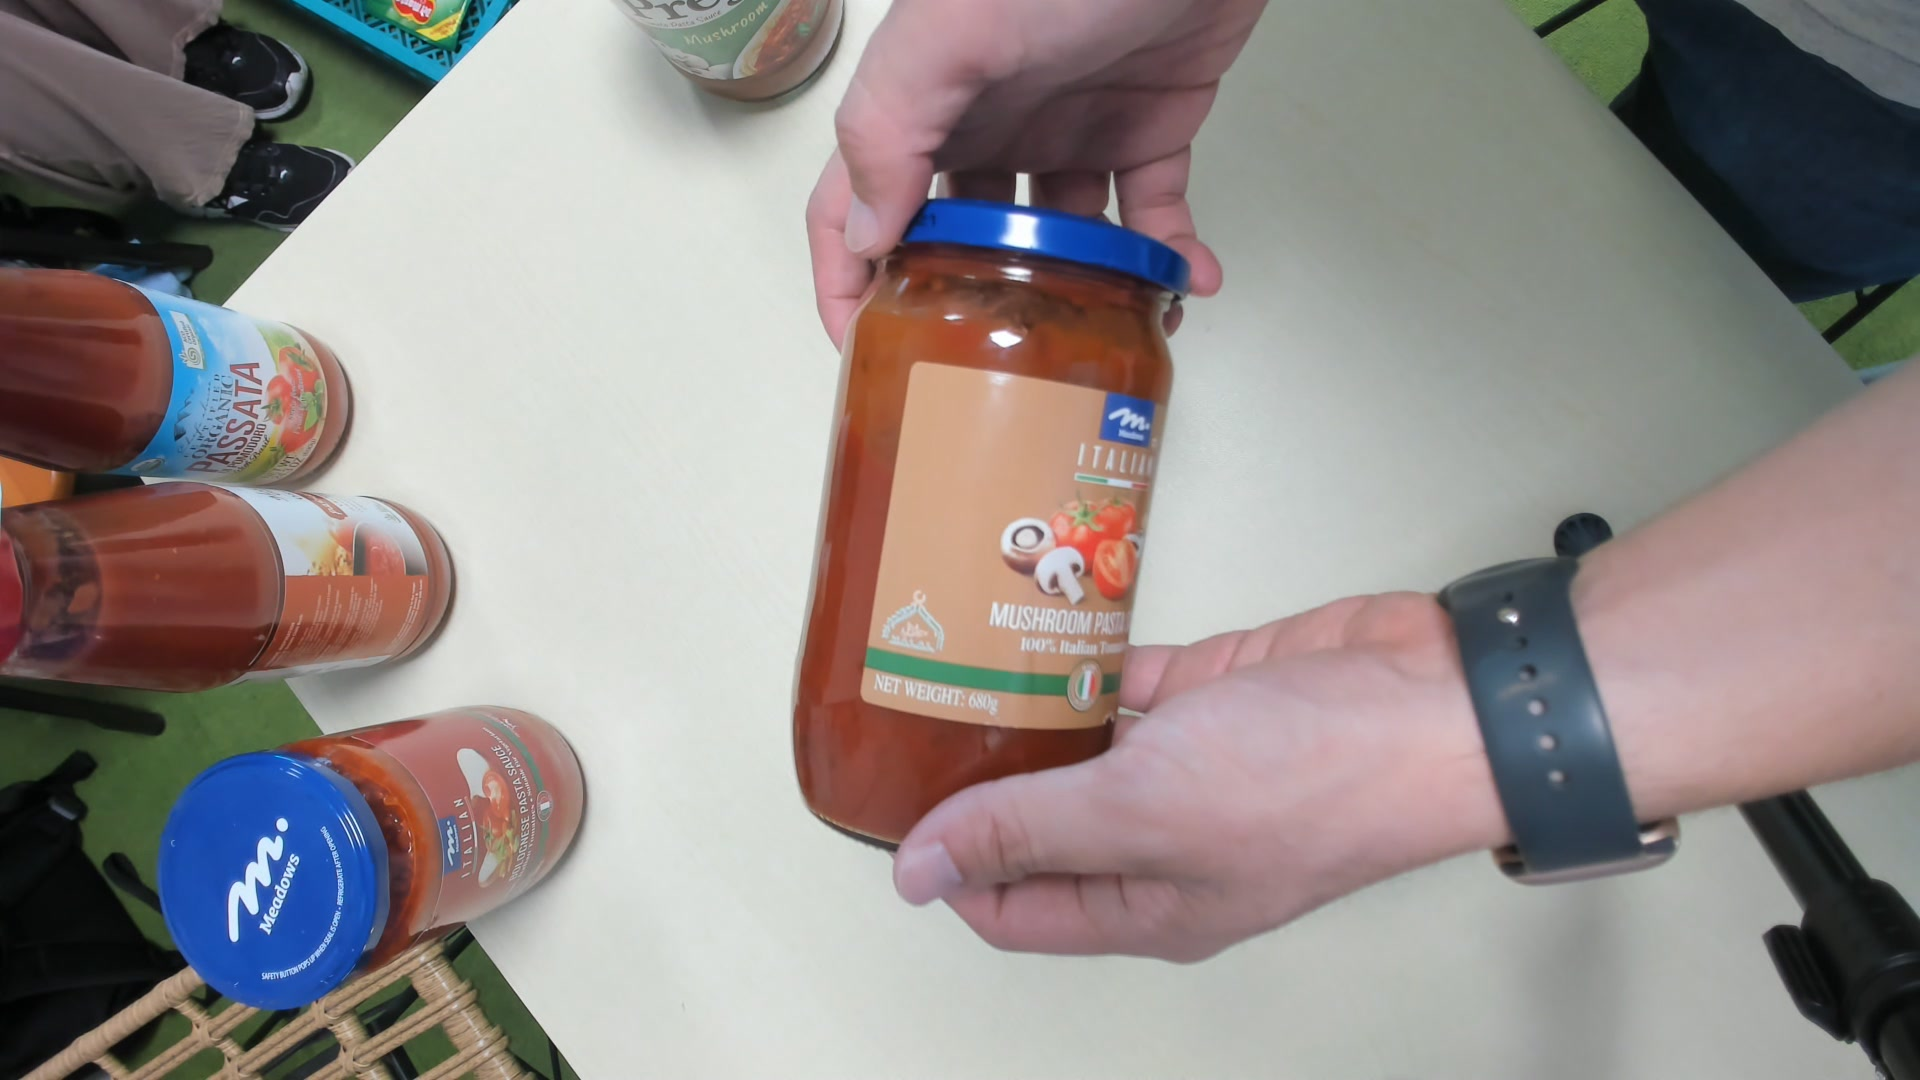PastaSauce_600-699g_Halal_NonHealthy: (793, 206, 1192, 878)
